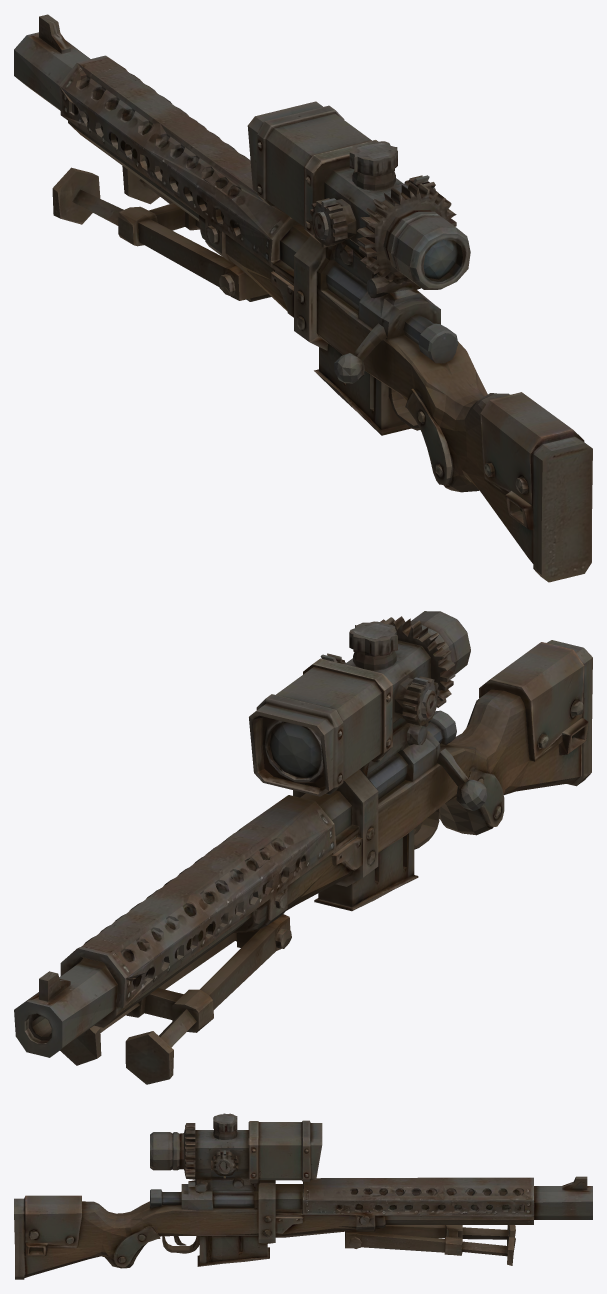
The model's file is sniper.glb.
3 renders of one model, top to bottom at view 1: azimuth 30°, elevation 25°; view 2: azimuth 150°, elevation 25°; view 3: azimuth 270°, elevation 25°, orthographic. The views are drawn at different scales.
Parts seen in each view (by area): view 1: tripo_node_9275b859-0fe8-4097-a5c6-596de307ea3a; view 2: tripo_node_9275b859-0fe8-4097-a5c6-596de307ea3a; view 3: tripo_node_9275b859-0fe8-4097-a5c6-596de307ea3a.
Part boxes in pixels (x1,y1,x2,y2): tripo_node_9275b859-0fe8-4097-a5c6-596de307ea3a: (14,14,592,582); tripo_node_9275b859-0fe8-4097-a5c6-596de307ea3a: (14,611,592,1084); tripo_node_9275b859-0fe8-4097-a5c6-596de307ea3a: (14,1113,592,1279).
Size of the model in its own units: 0.2856 by 0.5947 by 2.
1 material, 1 textured.
